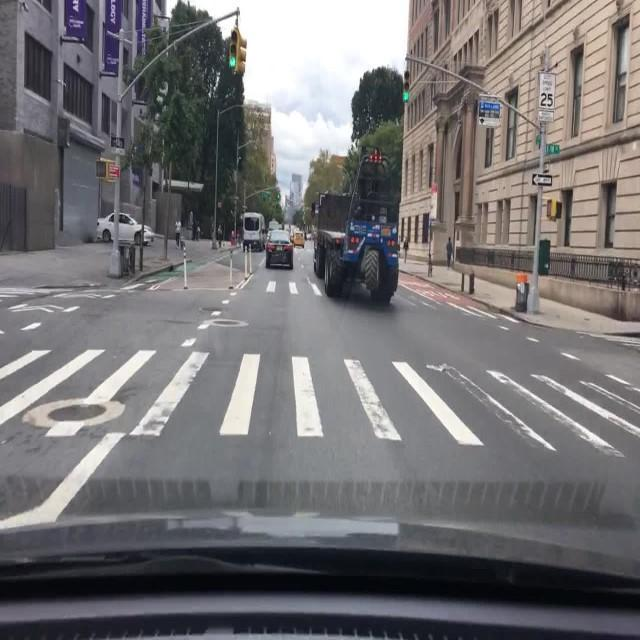normal: (314, 190, 400, 303), (93, 210, 153, 244), (265, 229, 295, 268)
